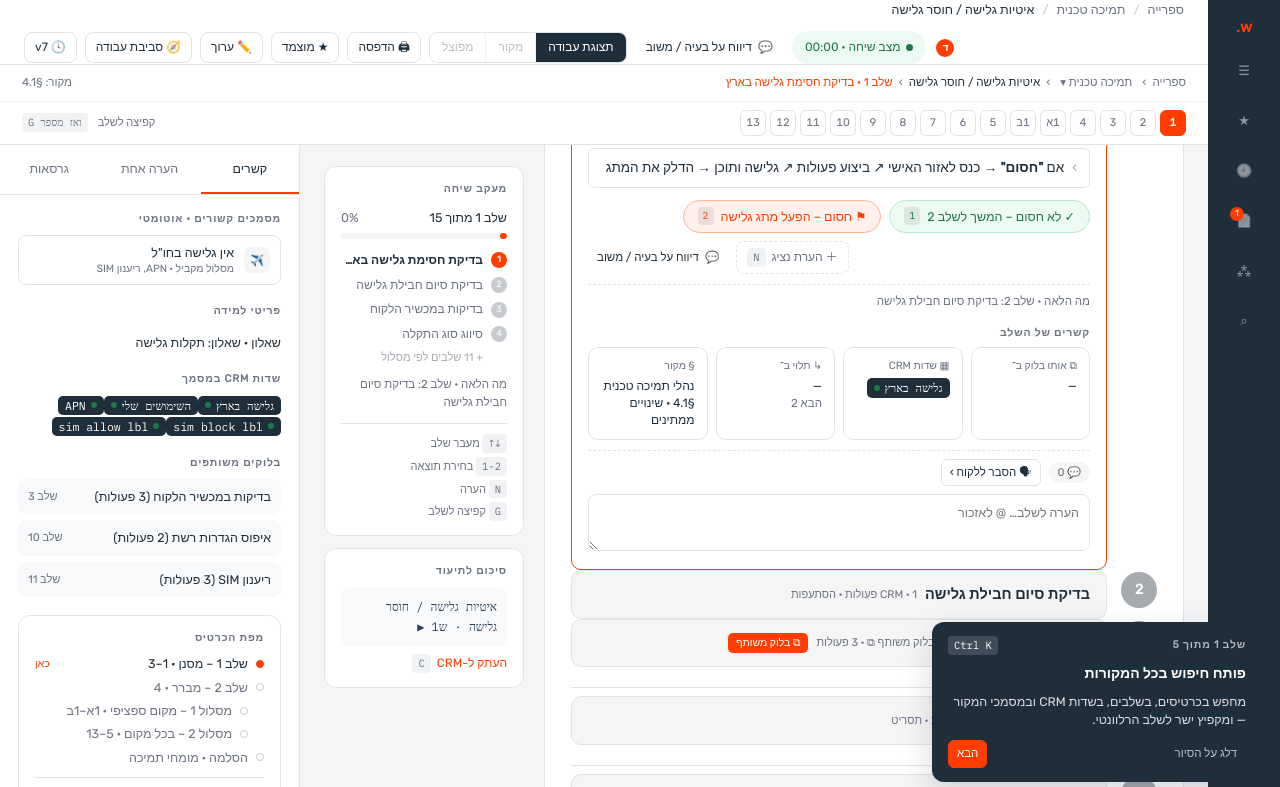
Test case: scripts are type-T documents › offers the phrasing in the step-level picker, read from the type-T card body
(page scrolled)
Click the button labelled "🗣 הסבר ללקוח ›" at [991, 472], box [941,459,1040,486]
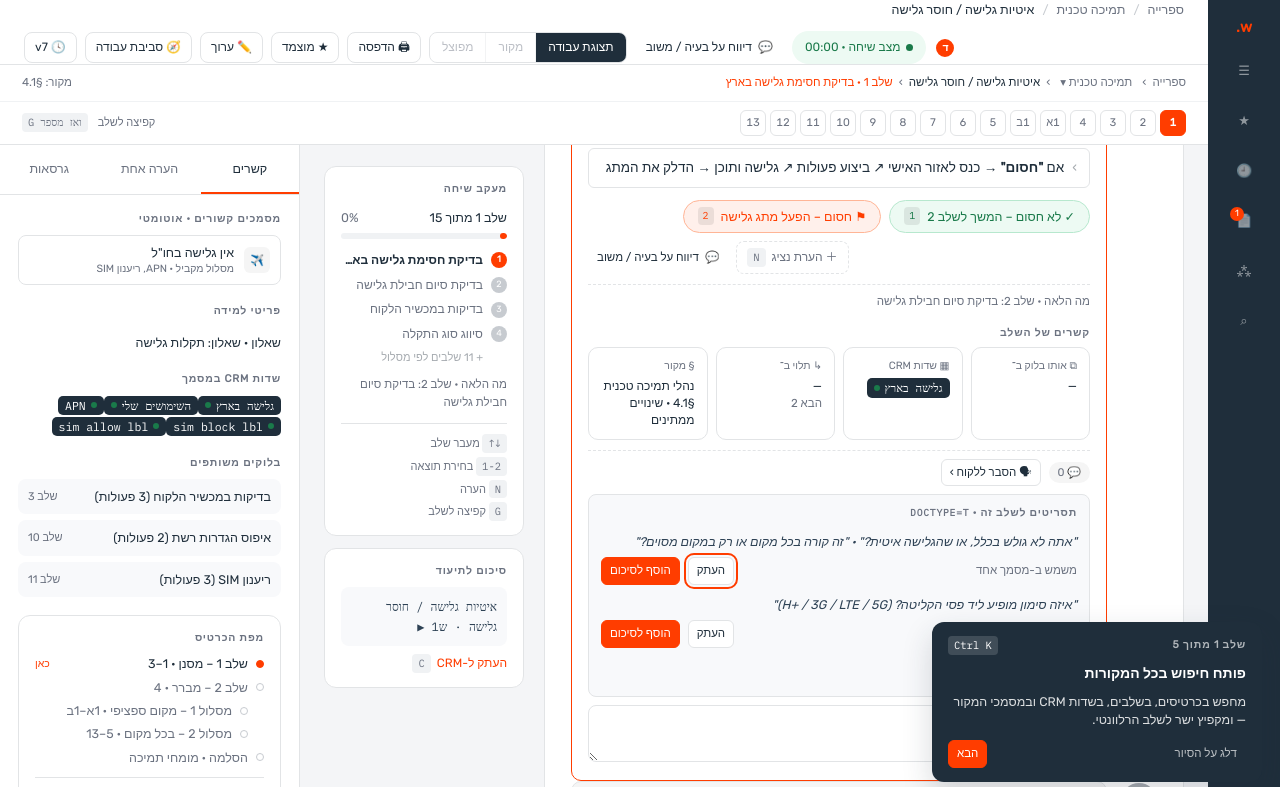
Check: the text "אתה לא גולש בכלל" is shown, box [635,534,1077,549]
Check: the text "משמש ב-מסמך אחד" is shown, box [976,562,1077,580]
